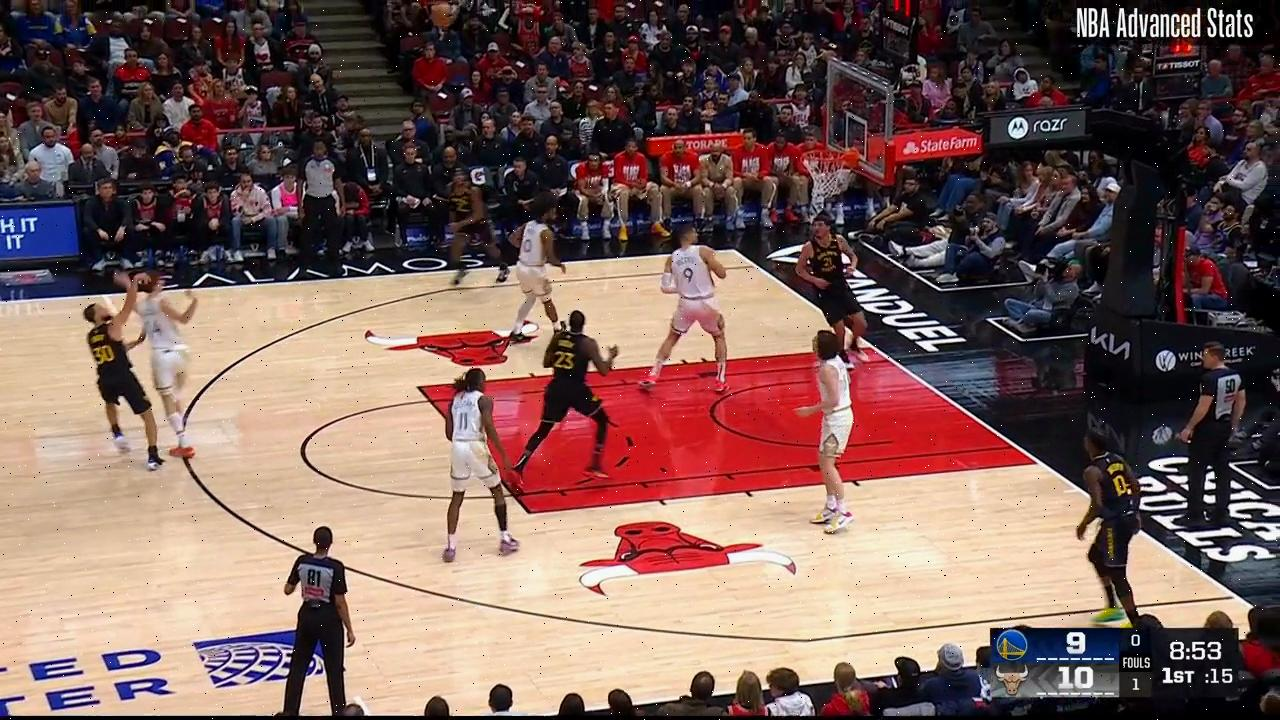basketball: (426, 1, 457, 31)
